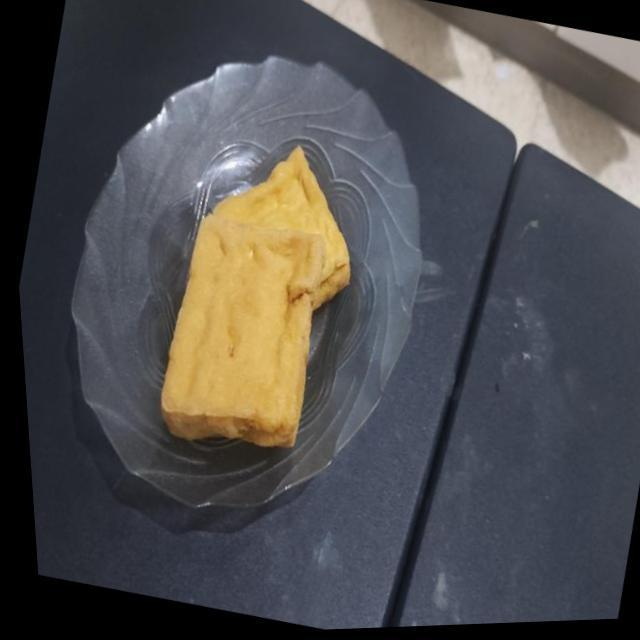tahu_goreng: (160, 214, 327, 446), (212, 146, 349, 310)
